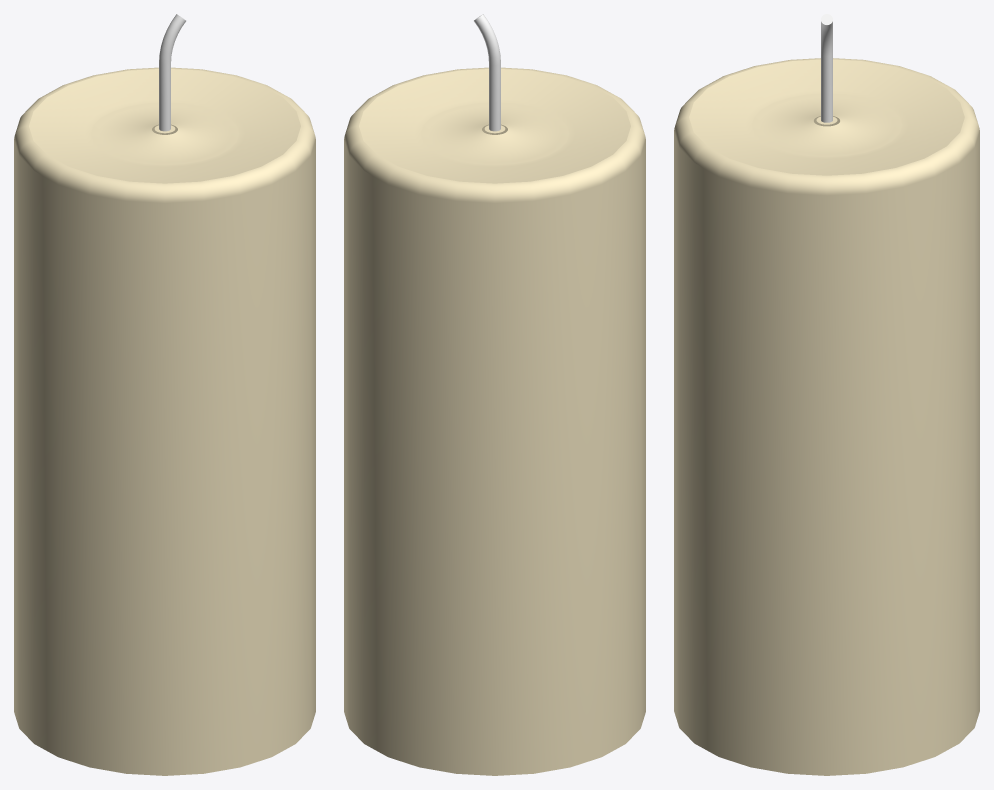
File: CandleModel.fbx
3 views of the same model, side by side, from view 1: azimuth 30°, elevation 25°; view 2: azimuth 150°, elevation 25°; view 3: azimuth 270°, elevation 25° (orthographic).
Visible parts, largest first — view 1: Layer0_001; view 2: Layer0_001; view 3: Layer0_001.
Boxes of the visible parts, x1,y1,x2,y2 form: Layer0_001: (14,14,315,775); Layer0_001: (344,14,645,775); Layer0_001: (674,14,979,775).
Size of the model in its own units: 2.76 by 7 by 2.76.
